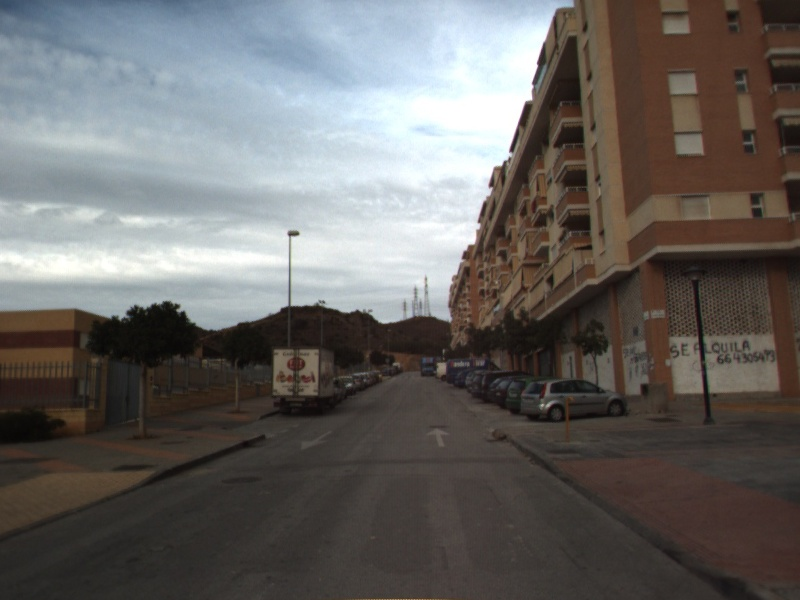STRAIGHT: (424, 426, 452, 448)
